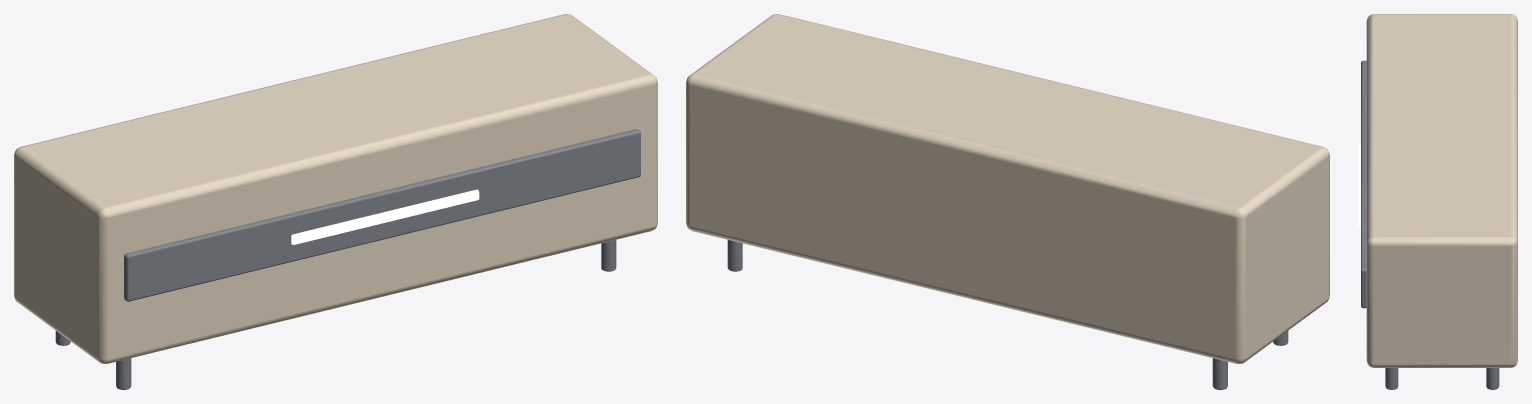
The model's file is tvStand.glb.
3 renders of one model, left to right at view 1: azimuth 30°, elevation 25°; view 2: azimuth 150°, elevation 25°; view 3: azimuth 270°, elevation 25°, orthographic. The views are drawn at different scales.
Parts seen in each view (by area): view 1: tvStand; view 2: tvStand; view 3: tvStand.
Boxes of the visible parts, box(x1,y1,x2,y2) form: tvStand: box(14, 14, 657, 389); tvStand: box(686, 14, 1329, 389); tvStand: box(1358, 14, 1517, 389).
Size of the model in its own units: 1.5 by 0.5 by 0.444.
